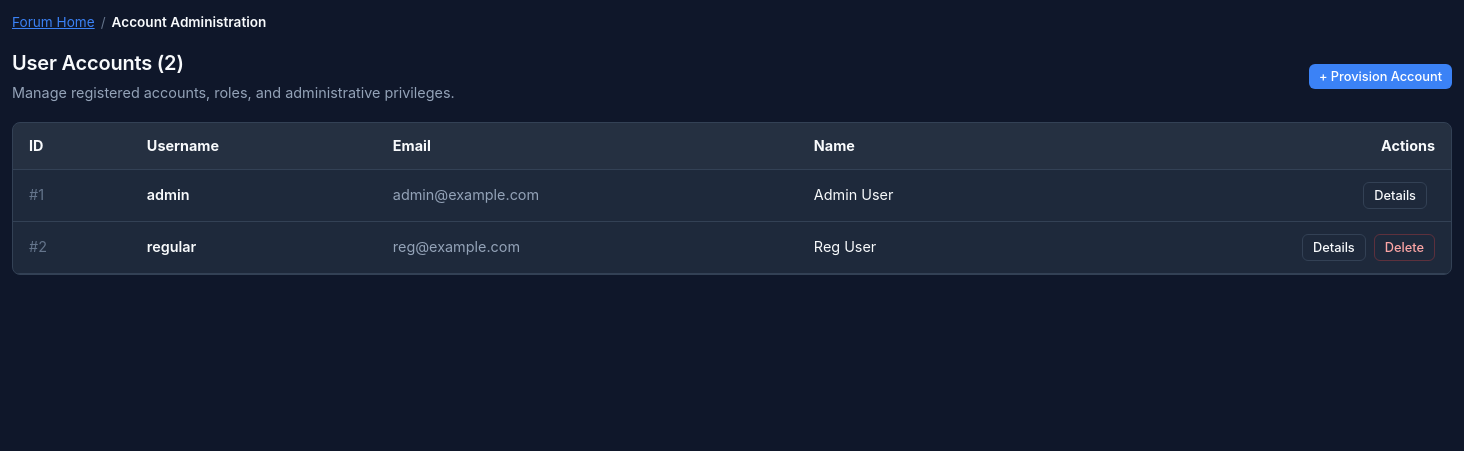
Test case: AccountsView › should fetch and display account profile details when clicking Details
This screenshot has width=1464, height=451.
Click the button with aria-label "details for admin" at (1395, 195), box [1363, 182, 1427, 209]
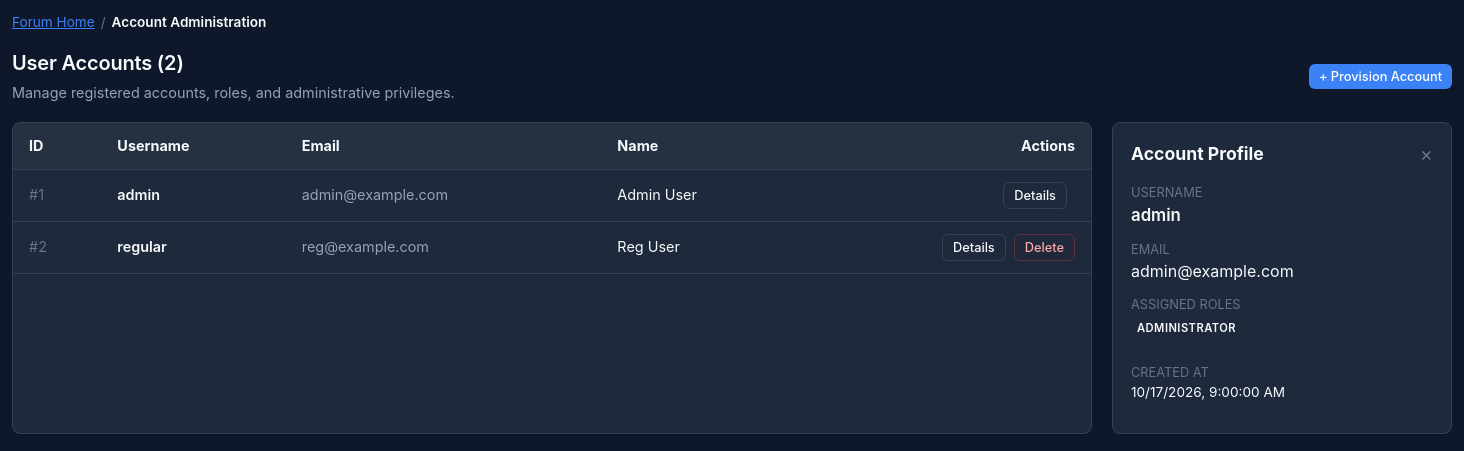
Expected: the heading "Account Profile" is shown, [1131, 141, 1264, 167]
Expected: the text "ASSIGNED ROLES" is shown, [1131, 297, 1241, 312]
